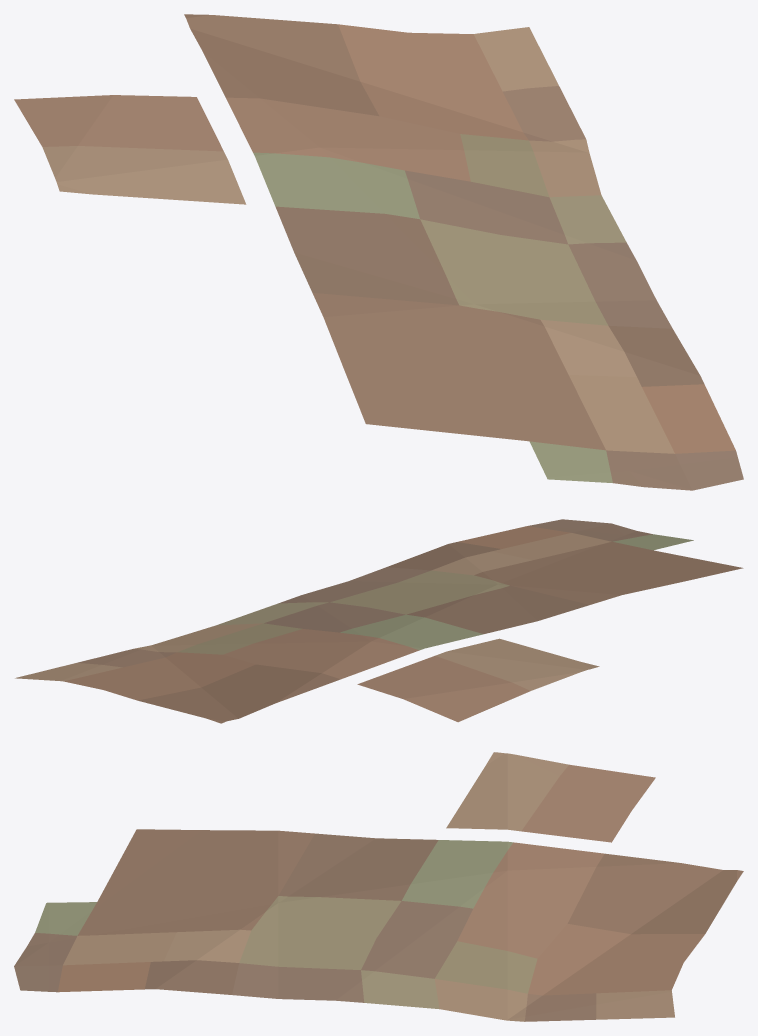
Rendered from farm_-3_-7_soil.glb.
3 views of the same model, one above another, from view 1: azimuth 30°, elevation 25°; view 2: azimuth 150°, elevation 25°; view 3: azimuth 270°, elevation 25° (orthographic). The views are drawn at different scales.
Visible parts, largest first — view 1: geometry_0; view 2: geometry_0; view 3: geometry_0.
Part boxes in pixels (bbox=[...]): geometry_0: bbox=[14, 14, 743, 490]; geometry_0: bbox=[15, 519, 743, 723]; geometry_0: bbox=[14, 752, 743, 1021].
Size of the model in its own units: 177 by 41.26 by 255.
